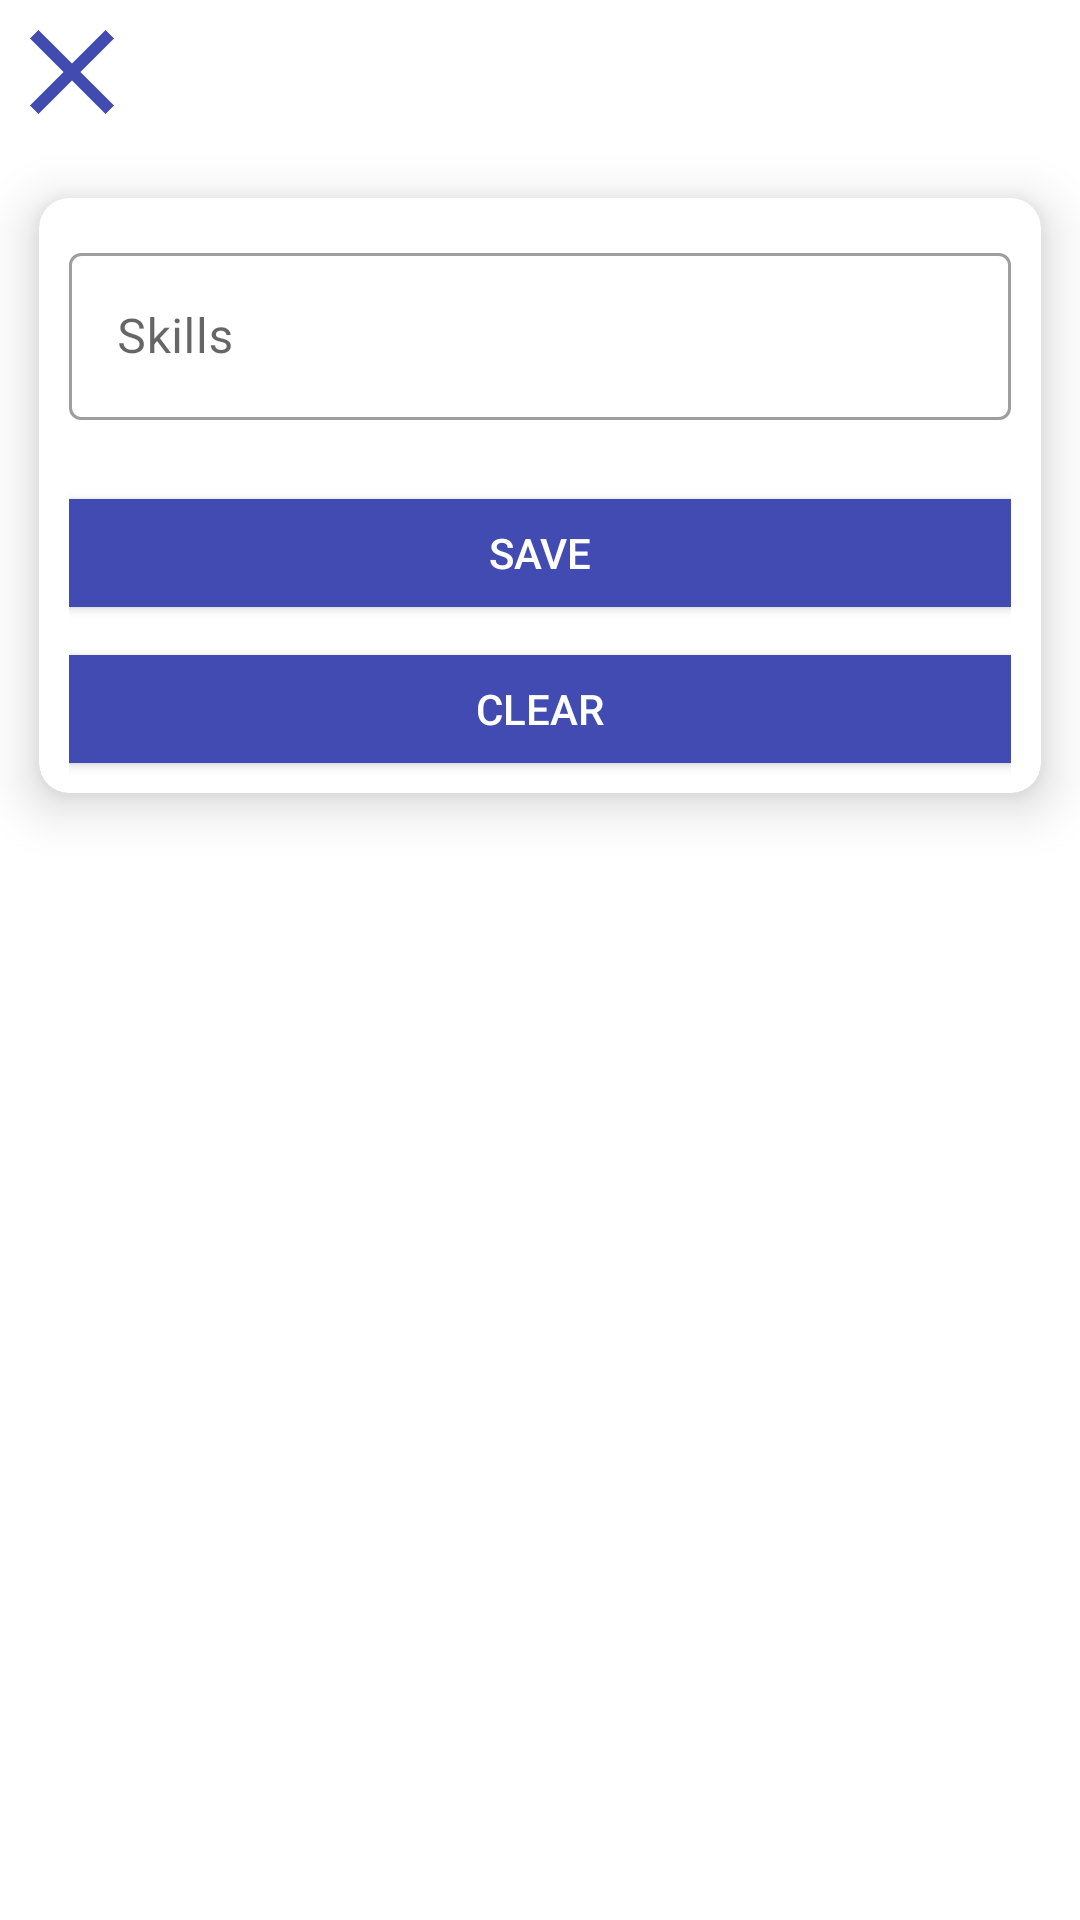

Screen size 1080w x 1920h. Icon name, then its box in pixels as (x1, y1, x2, y2):
close: (30, 30, 114, 114)
